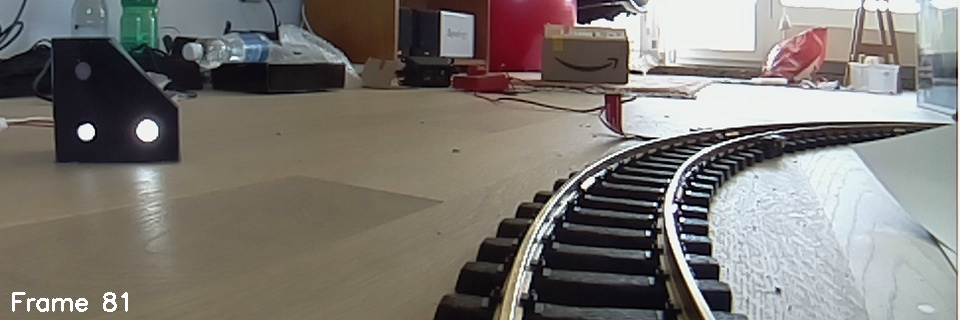Halt: (48, 36, 182, 164)
